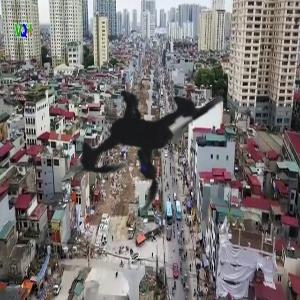drone: (21, 10, 283, 272)
